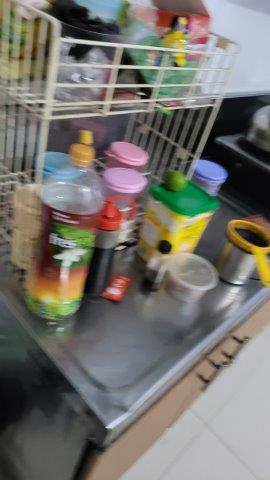botolplastik: (25, 142, 101, 324)
